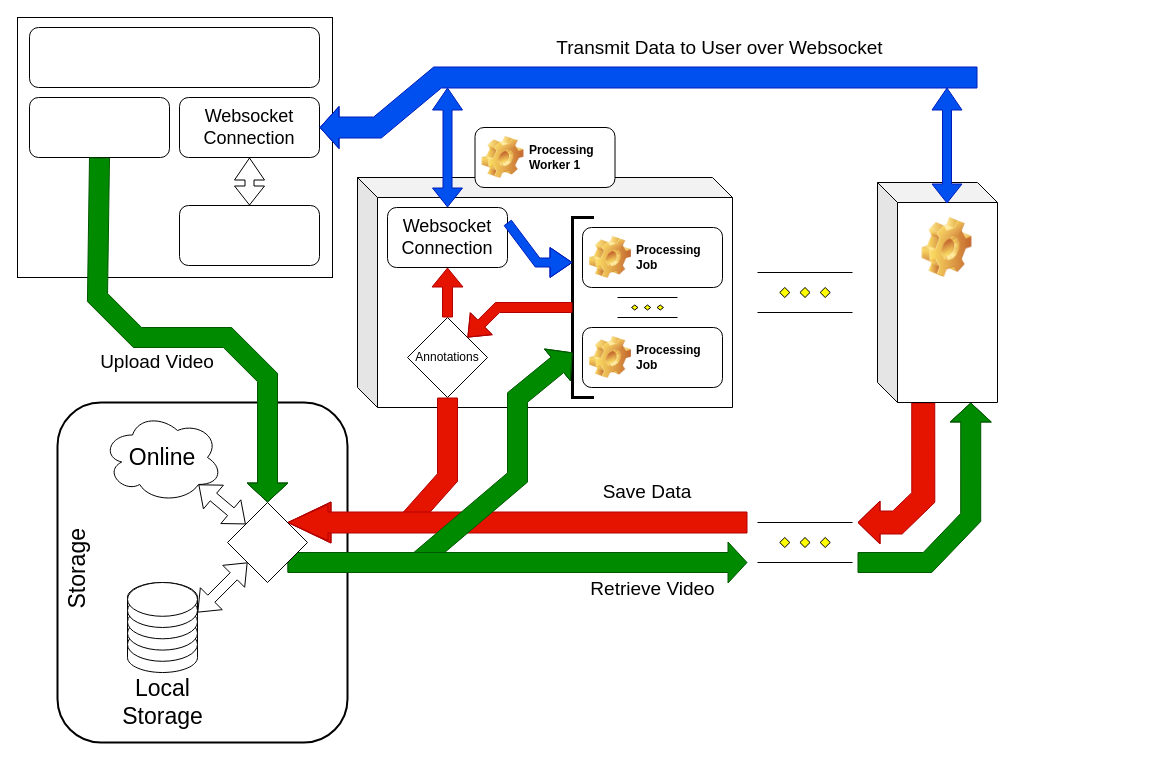
Image size: 1174x761. Some labels were removed from this diagram. Here are the shapes that lost their labels. From the top down, the centre of each, then its label:
At [174,57]: "User facing frontend".
At [99,127]: "Video Submission".
At [249,235]: "Settings/Status".
At [937,292]: "Processing Worker".
